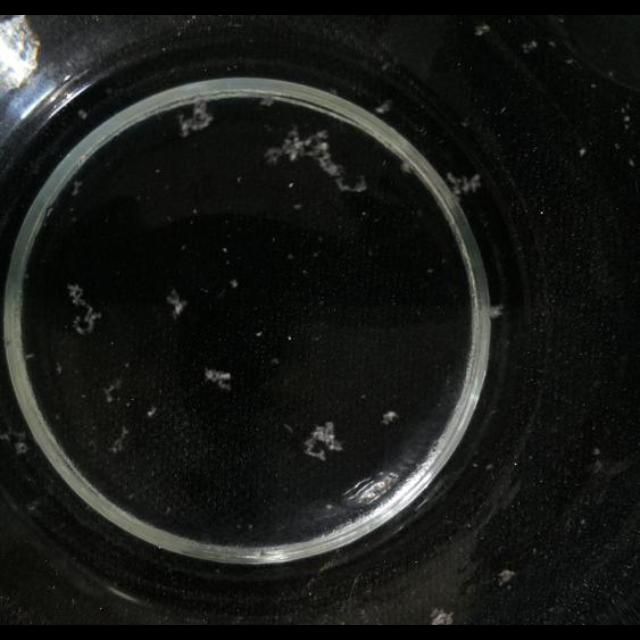Fibre: (265, 124, 367, 194), (66, 284, 102, 334), (270, 126, 316, 164), (173, 96, 214, 136), (303, 422, 345, 461), (445, 171, 481, 197), (0, 426, 30, 455), (204, 368, 232, 392), (109, 425, 131, 455), (166, 290, 188, 318), (104, 381, 122, 404), (264, 146, 284, 166), (67, 283, 85, 303), (430, 609, 452, 625), (497, 568, 515, 586), (373, 99, 392, 115), (381, 410, 399, 426), (446, 172, 460, 190), (70, 180, 84, 197), (474, 22, 490, 36), (489, 304, 505, 318), (522, 39, 538, 53), (336, 60, 386, 64), (258, 96, 274, 108), (146, 405, 158, 417), (78, 110, 89, 120), (228, 279, 238, 289)
